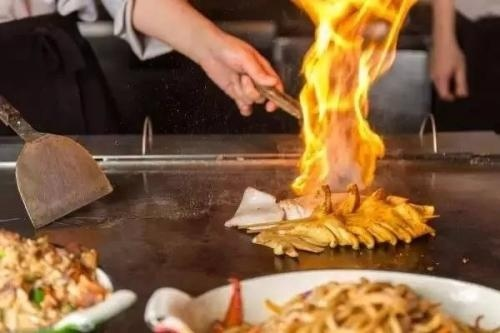fire: (294, 0, 415, 197)
